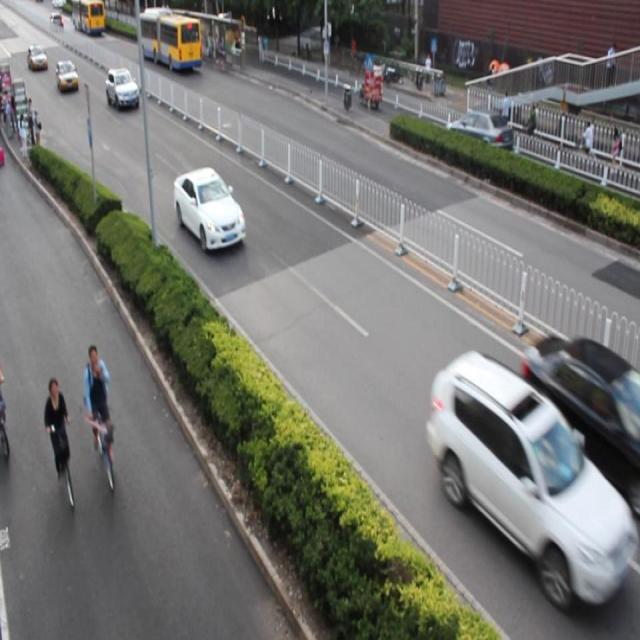car: (426, 347, 640, 601), (519, 338, 640, 506), (171, 170, 245, 248), (445, 107, 511, 167), (105, 68, 138, 111)
van: (138, 5, 201, 73)
